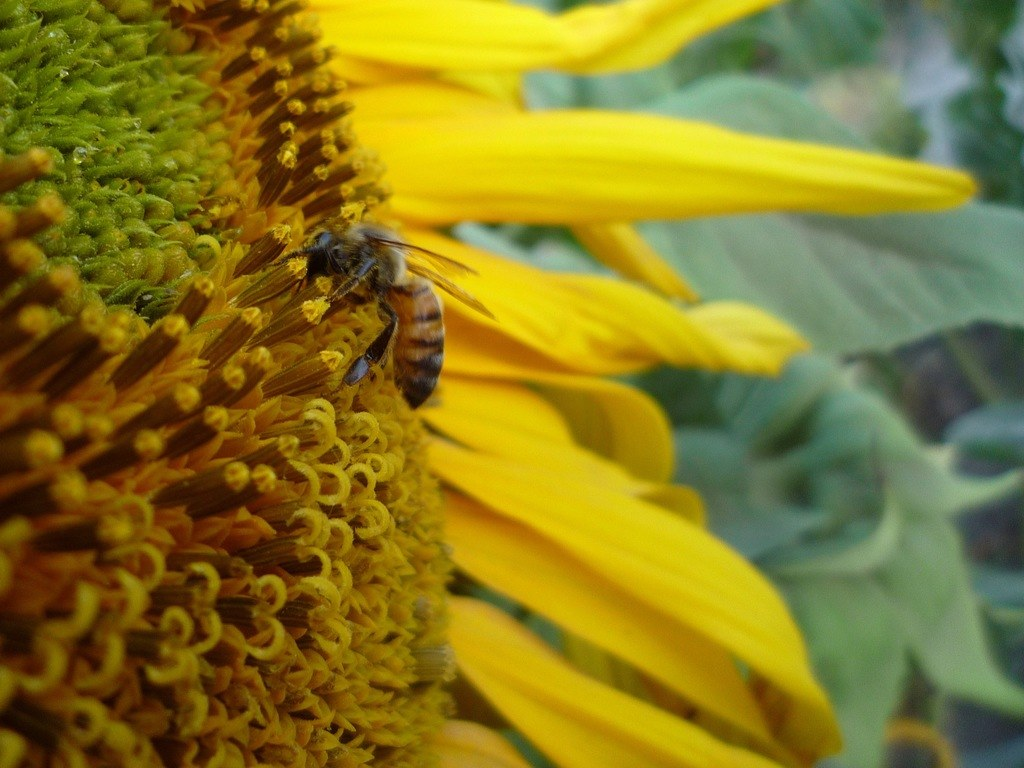bee: (271, 199, 474, 428)
insect: (0, 0, 973, 767)
